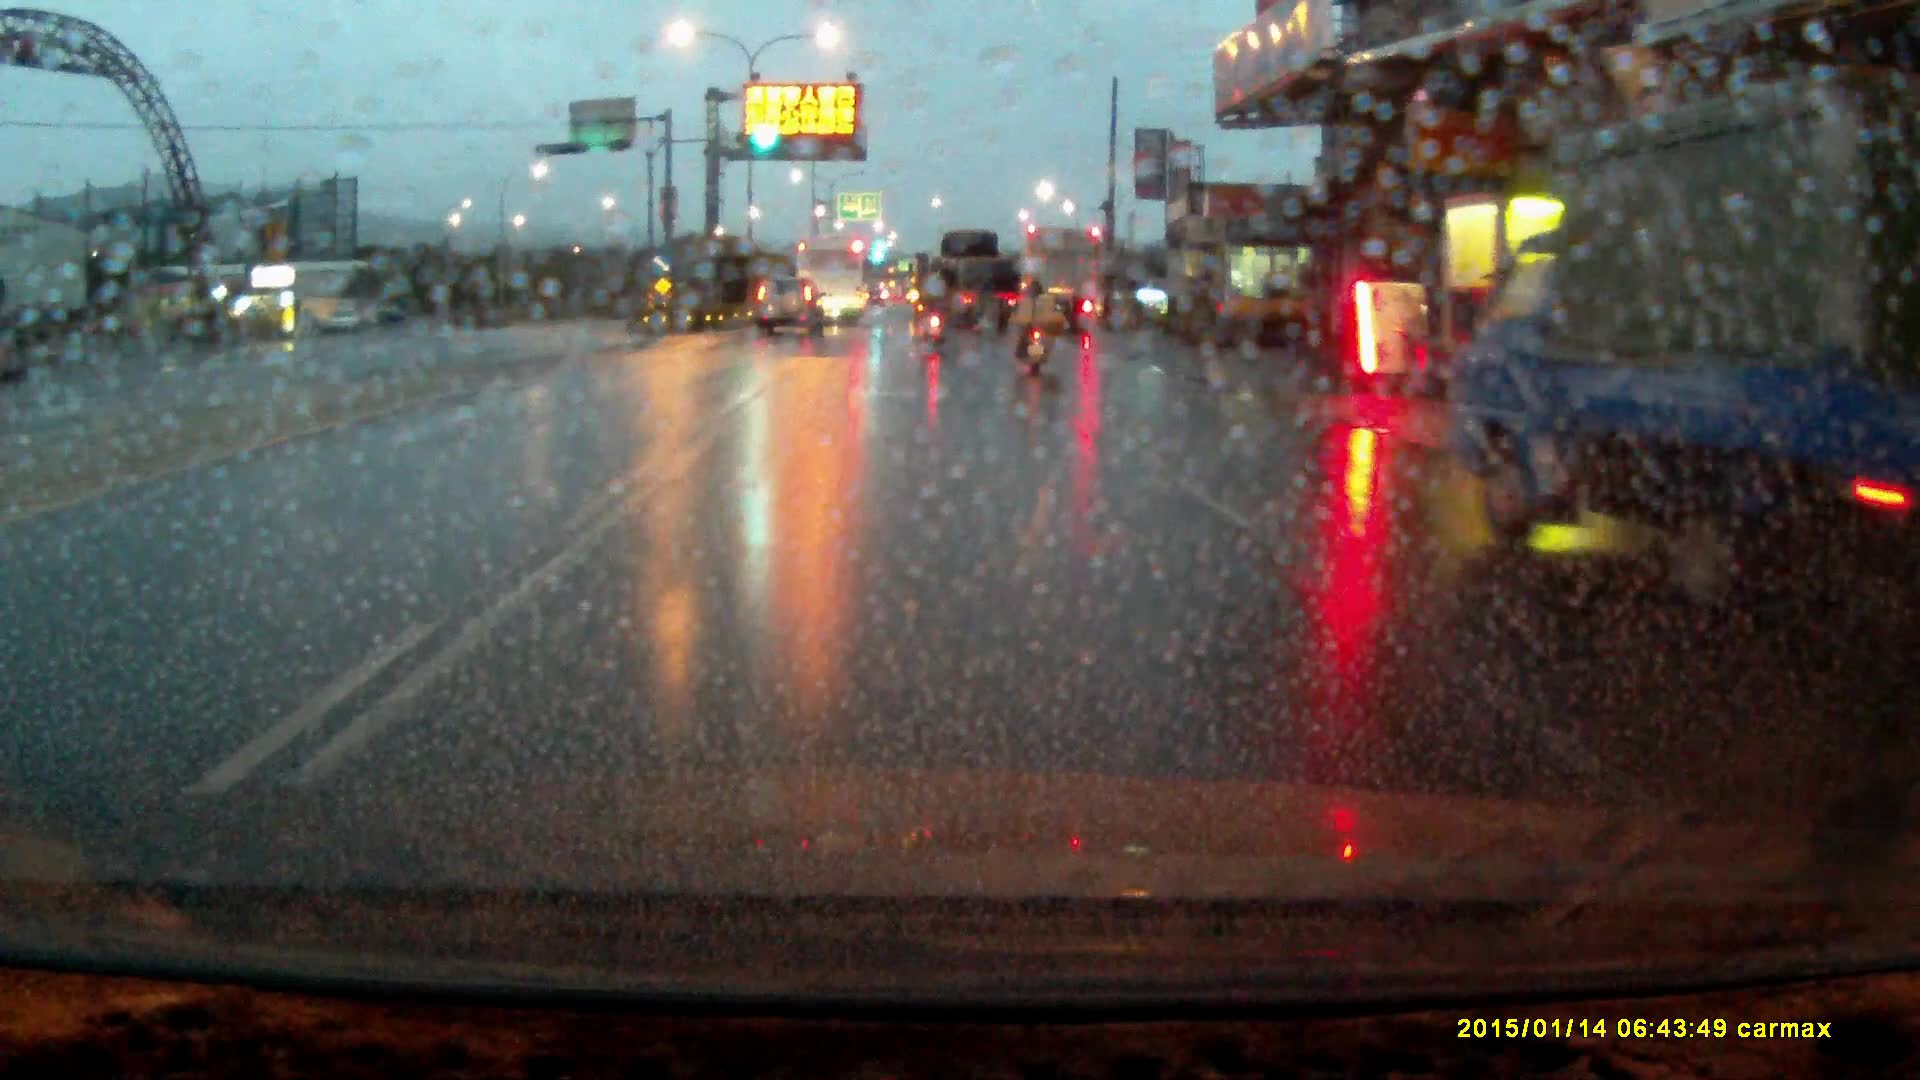rider: (1016, 275, 1053, 377), (922, 279, 947, 349)
vehicle: (1443, 75, 1920, 586), (927, 231, 1024, 344), (1023, 229, 1107, 333), (796, 235, 870, 328), (755, 277, 822, 340)
